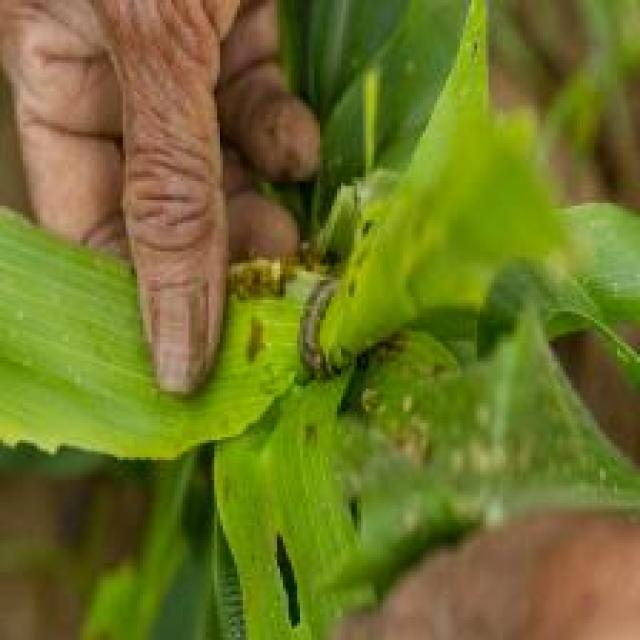Plaga: (280, 276, 351, 396)
